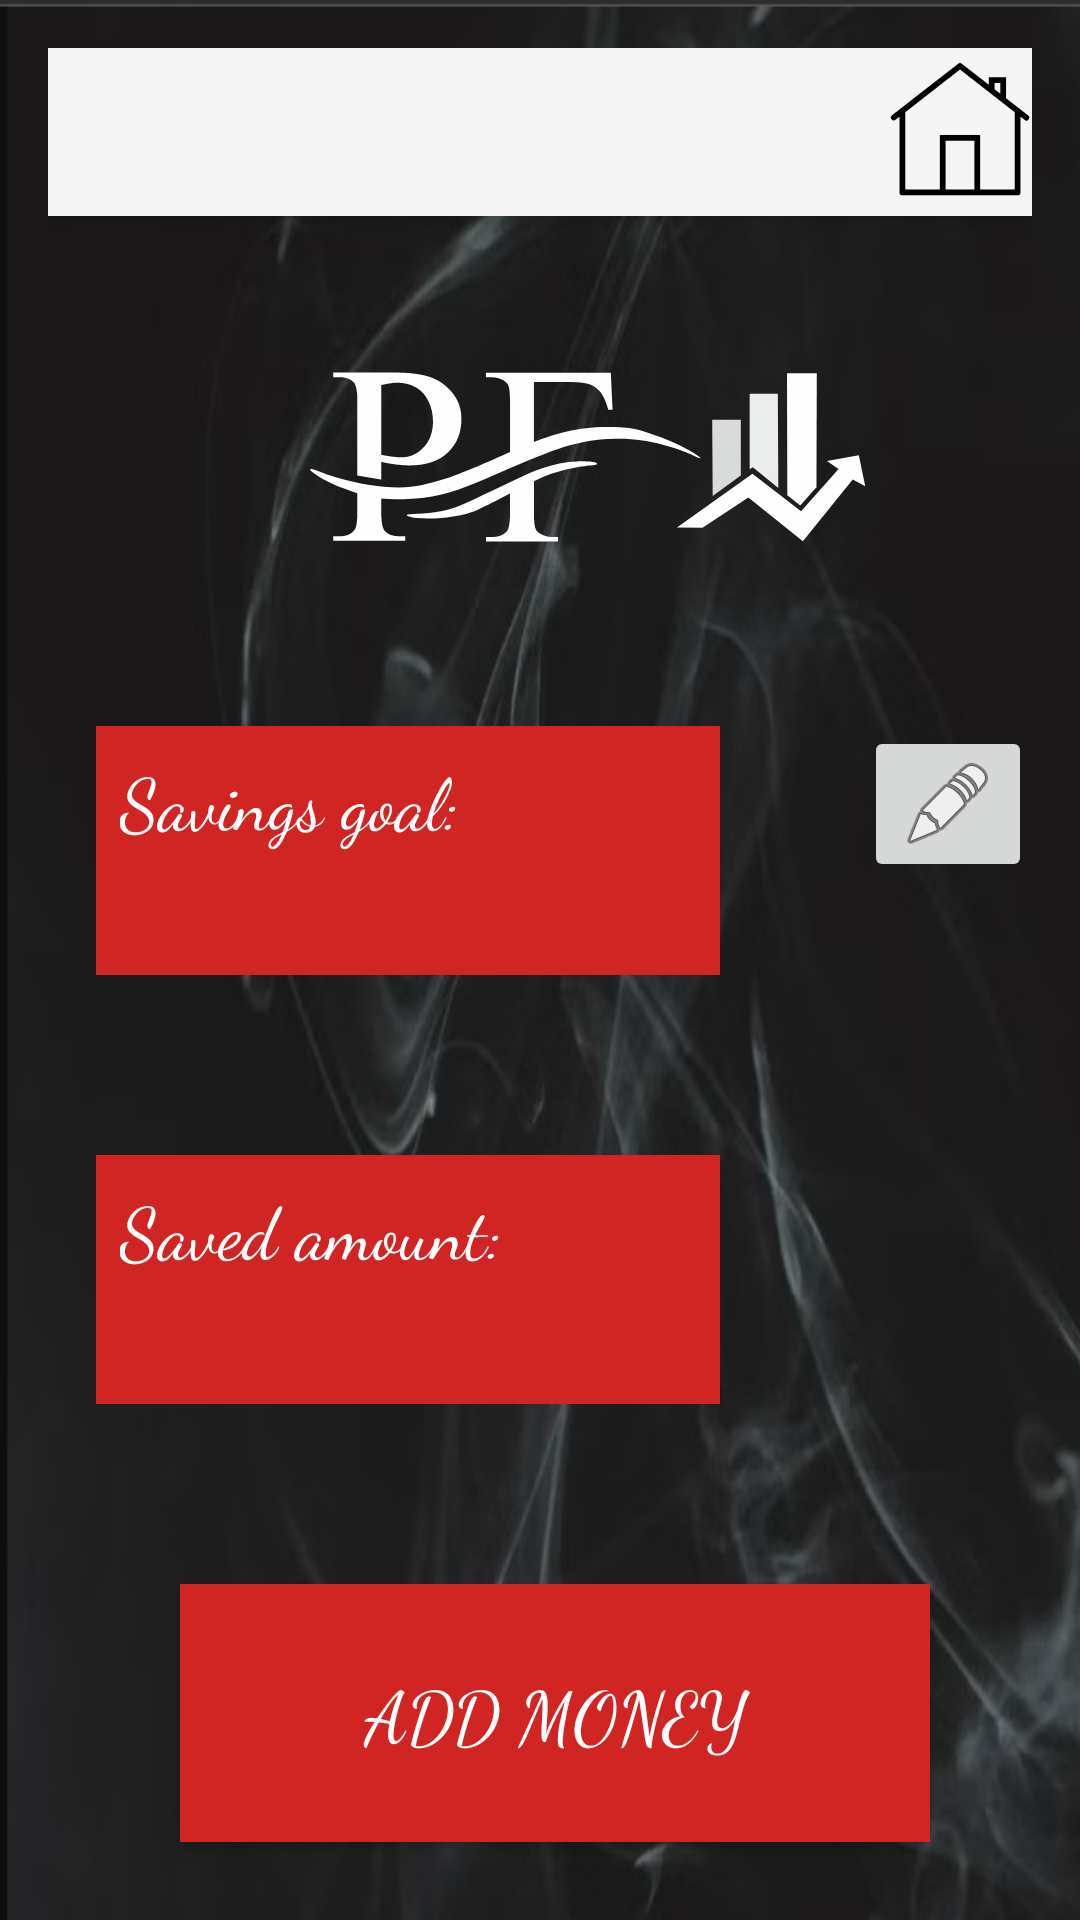

Icon bounding boxes for this 1080*1920 phone screenshot, format (x1, y1, x2, y2):
Go to home activity: (890, 63, 1030, 196)
